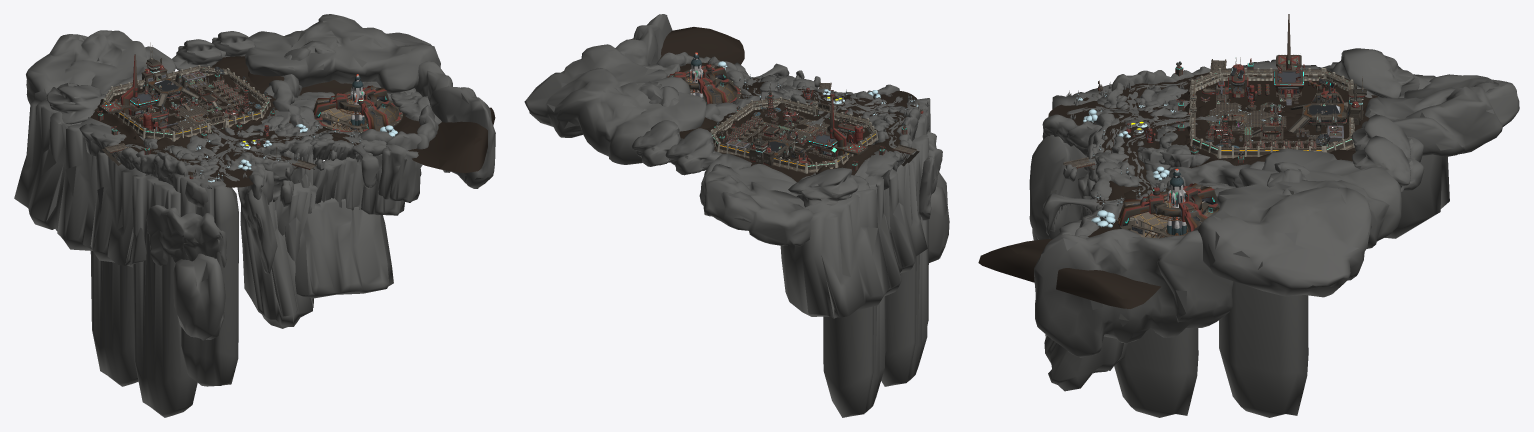
The picture shows the model from 3 angles, left to right: view 1: azimuth 30°, elevation 25°; view 2: azimuth 150°, elevation 25°; view 3: azimuth 270°, elevation 25°; orthographic projection. The views are drawn at different scales.
Visible parts, largest first — view 1: chunk_q10_low; view 2: chunk_q10_low; view 3: chunk_q10_low.
Boxes of the visible parts, box(x1,y1,x2,y2) form: chunk_q10_low: box(14, 14, 495, 417); chunk_q10_low: box(524, 14, 949, 417); chunk_q10_low: box(978, 14, 1519, 417).
Size of the model in its own units: 43.74 by 35.5 by 42.26.
Materials: 12 (11 with a texture image).
